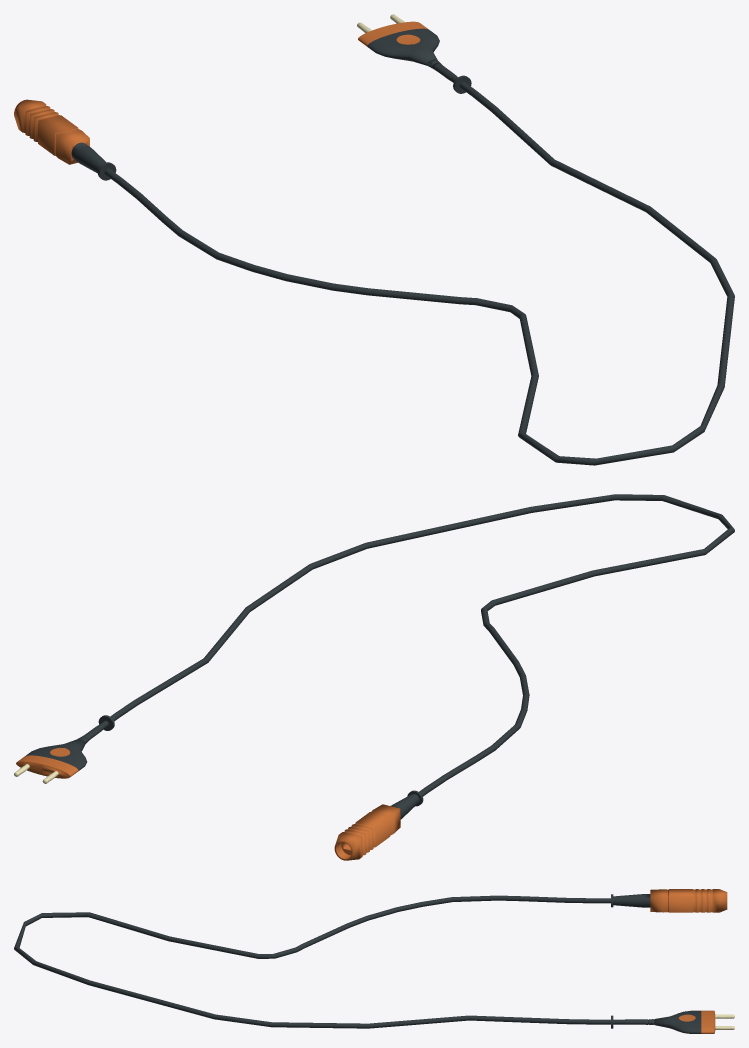
File: SladdDiatermi.fbx
3 renders of one model, top to bottom at view 1: azimuth 30°, elevation 25°; view 2: azimuth 150°, elevation 25°; view 3: azimuth 270°, elevation 25°, orthographic. The views are drawn at different scales.
Parts seen in each view (by area): view 1: Cylinder.001; view 2: Cylinder.001; view 3: Cylinder.001.
Part boxes in pixels (<box>): Cylinder.001: <box>14,14,734,465</box>; Cylinder.001: <box>14,494,734,860</box>; Cylinder.001: <box>14,889,734,1033</box>.
Size of the model in its own units: 500 by 27.02 by 1119.
